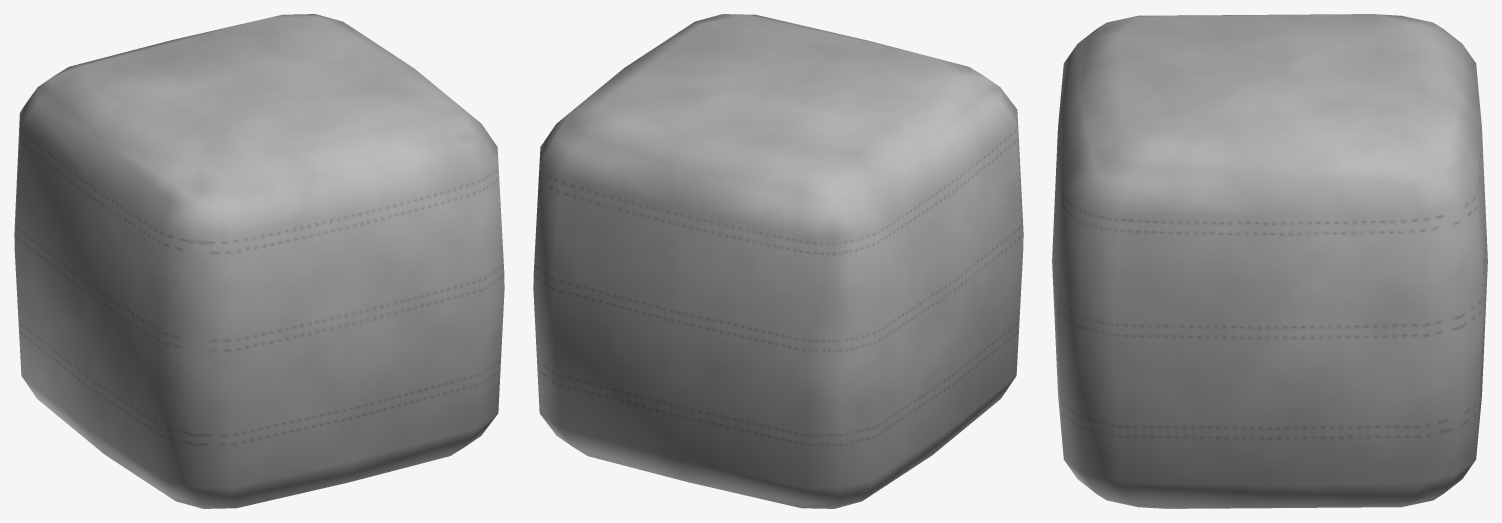
Rendered from LeftLowerArm_C1.fbx.
3 views of the same model, side by side, from view 1: azimuth 30°, elevation 25°; view 2: azimuth 150°, elevation 25°; view 3: azimuth 270°, elevation 25° (orthographic). The views are drawn at different scales.
Visible parts, largest first — view 1: Civ_SacoOficina_LeftLowerArm_C1; view 2: Civ_SacoOficina_LeftLowerArm_C1; view 3: Civ_SacoOficina_LeftLowerArm_C1.
Part boxes in pixels (x1,y1,x2,y2): Civ_SacoOficina_LeftLowerArm_C1: [14, 14, 504, 508]; Civ_SacoOficina_LeftLowerArm_C1: [533, 14, 1023, 508]; Civ_SacoOficina_LeftLowerArm_C1: [1052, 14, 1487, 508].
Size of the model in its own units: 1.25 by 1.19 by 1.25.
